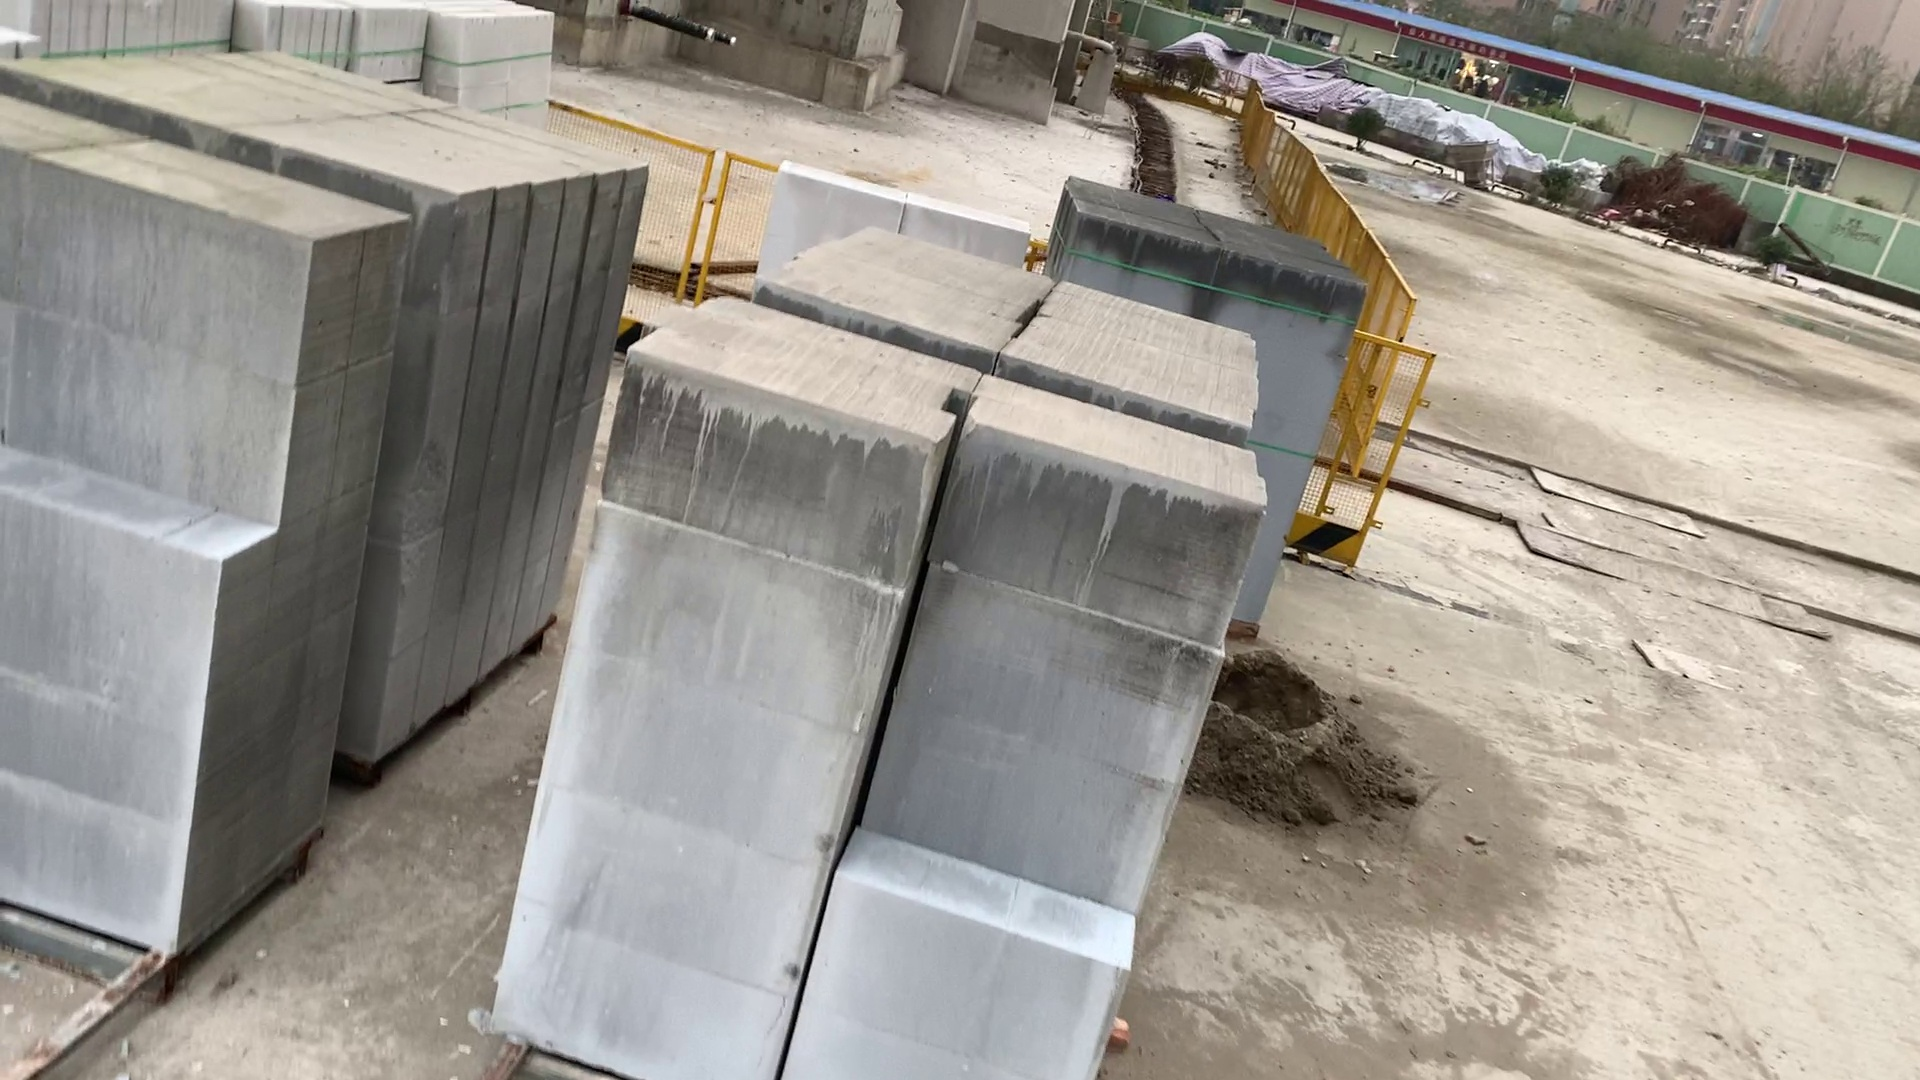brickwork: (506, 309, 1271, 1080), (1, 99, 426, 969), (7, 36, 654, 203), (765, 215, 1257, 425), (1058, 175, 1370, 327), (442, 8, 560, 127), (245, 4, 425, 80), (11, 3, 231, 54)
